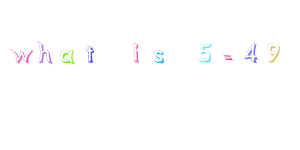-: (222, 53, 234, 63)
4: (243, 42, 258, 63)
5: (198, 42, 212, 63)
9: (266, 42, 280, 64)
a: (59, 48, 75, 64)
h: (37, 39, 52, 64)
i: (131, 41, 140, 63)
s: (153, 47, 164, 63)
t: (85, 44, 95, 64)
w: (10, 48, 33, 63)
